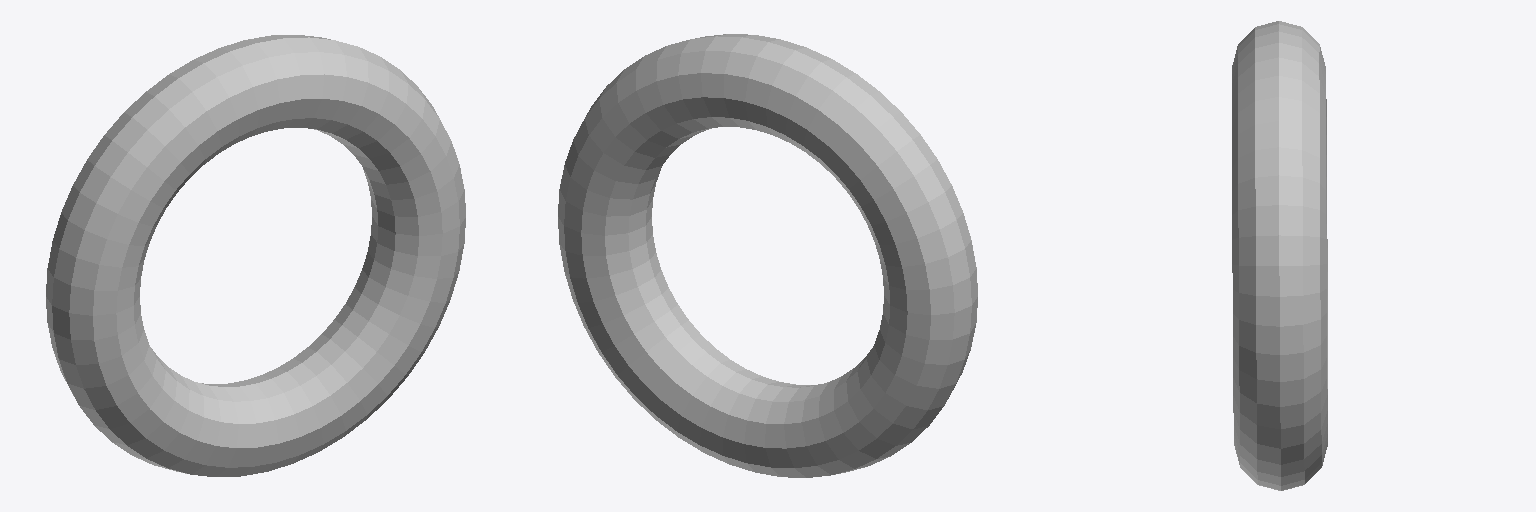
File: tire1.obj
3 renders of one model, left to right at view 1: azimuth 30°, elevation 25°; view 2: azimuth 150°, elevation 25°; view 3: azimuth 270°, elevation 25°, orthographic.
Visible parts, largest first — view 1: トーラス.001; view 2: トーラス.001; view 3: トーラス.001.
Boxes of the visible parts, x1,y1,x2,y2 form: トーラス.001: [46, 35, 465, 476]; トーラス.001: [558, 34, 977, 477]; トーラス.001: [1232, 21, 1327, 490].
Size of the model in its own units: 2.5 by 2.5 by 0.5124.